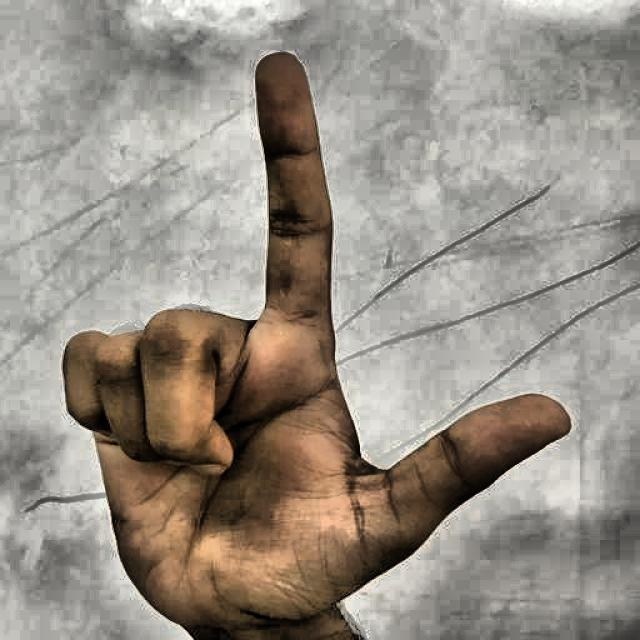La: (27, 18, 586, 640)
